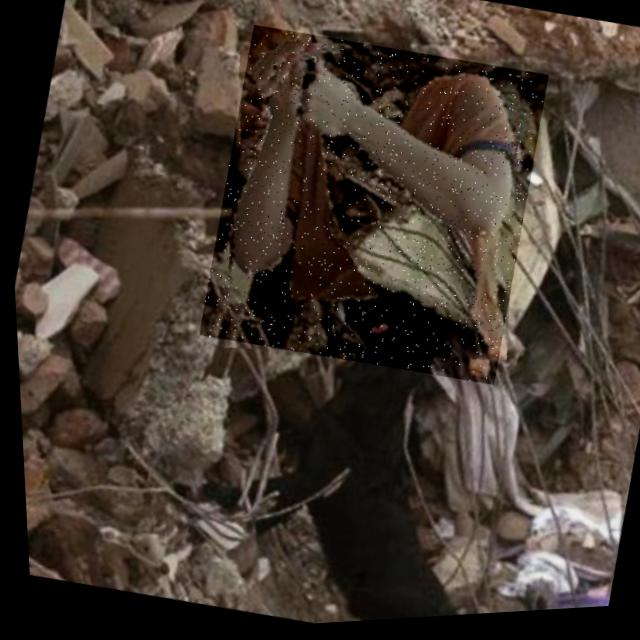Person in Rubble: (182, 14, 559, 404)
